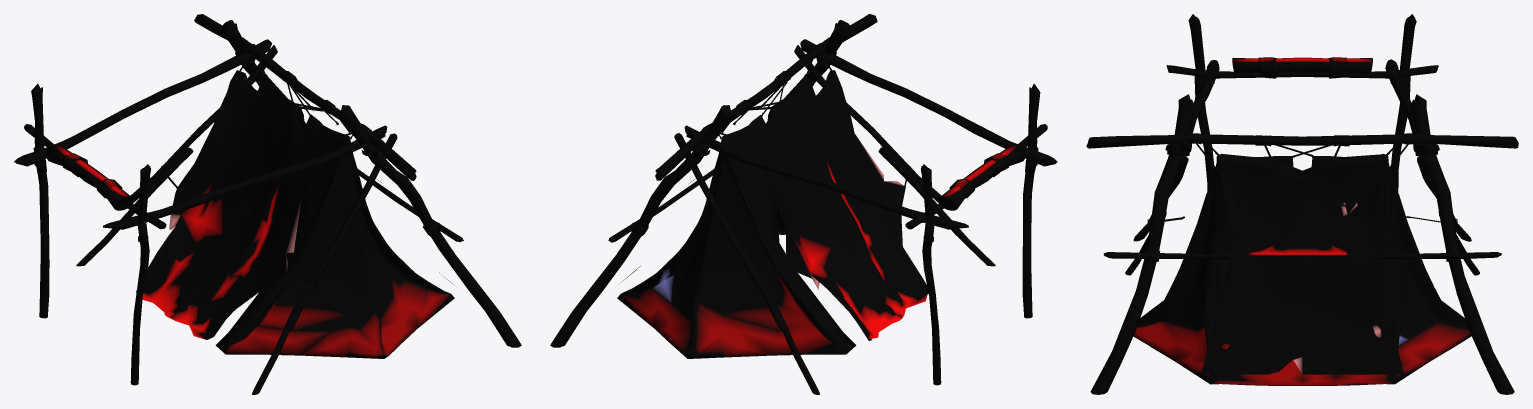
The model's file is tent_wooden_tribals_generic_village_g.gltf.
3 views of the same model, side by side, from view 1: azimuth 30°, elevation 25°; view 2: azimuth 150°, elevation 25°; view 3: azimuth 270°, elevation 25° (orthographic).
Parts seen in each view (by area): view 1: tent_wooden_tribals_generic_village_g; view 2: tent_wooden_tribals_generic_village_g; view 3: tent_wooden_tribals_generic_village_g.
Boxes of the visible parts, <box> form: tent_wooden_tribals_generic_village_g: <box>14,14,521,394</box>; tent_wooden_tribals_generic_village_g: <box>550,14,1057,394</box>; tent_wooden_tribals_generic_village_g: <box>1086,14,1518,394</box>.
Size of the model in its own units: 7.04 by 4.47 by 7.36.
